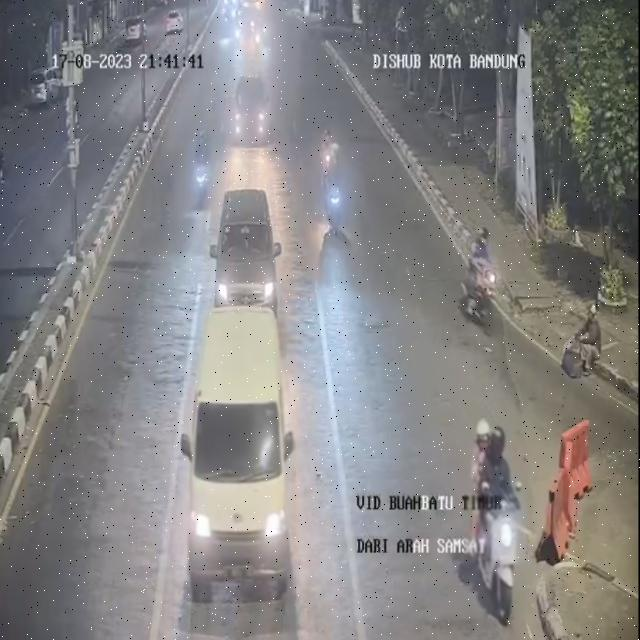cars: (185, 303, 296, 600), (214, 188, 286, 314), (236, 72, 274, 148)
motorcycle: (464, 418, 526, 614), (459, 226, 498, 332), (324, 150, 349, 239), (186, 126, 212, 209), (315, 121, 338, 191)
